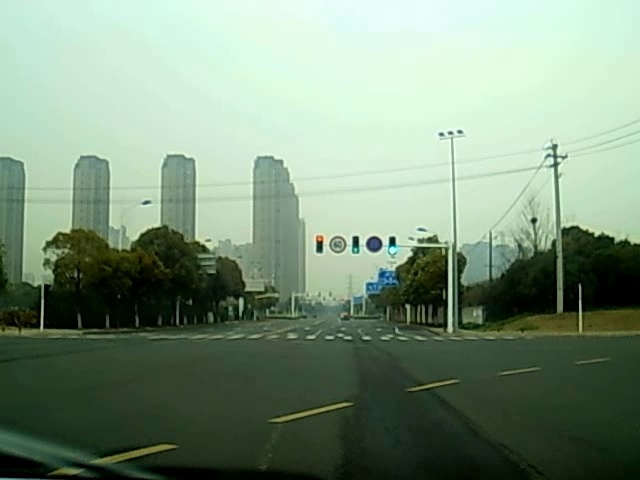Traffic_Light_go: (387, 236, 397, 257), (351, 236, 360, 253)
Traffic_Light_stop: (314, 234, 325, 257)
